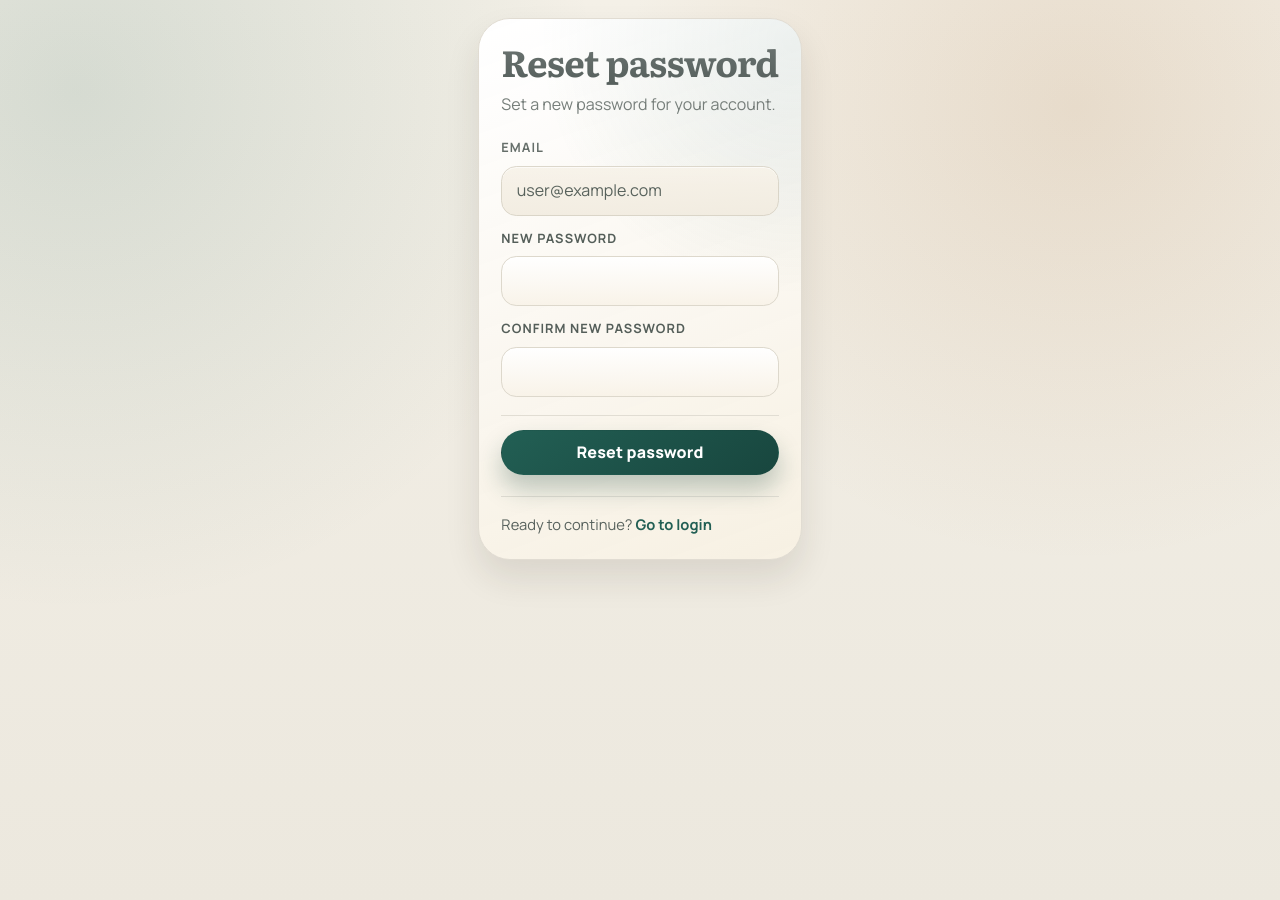
ResetPasswordPage › shows reset error when API request fails
In the password field labelled "New password": (640, 281) [501,256,779,306], type "Password123"
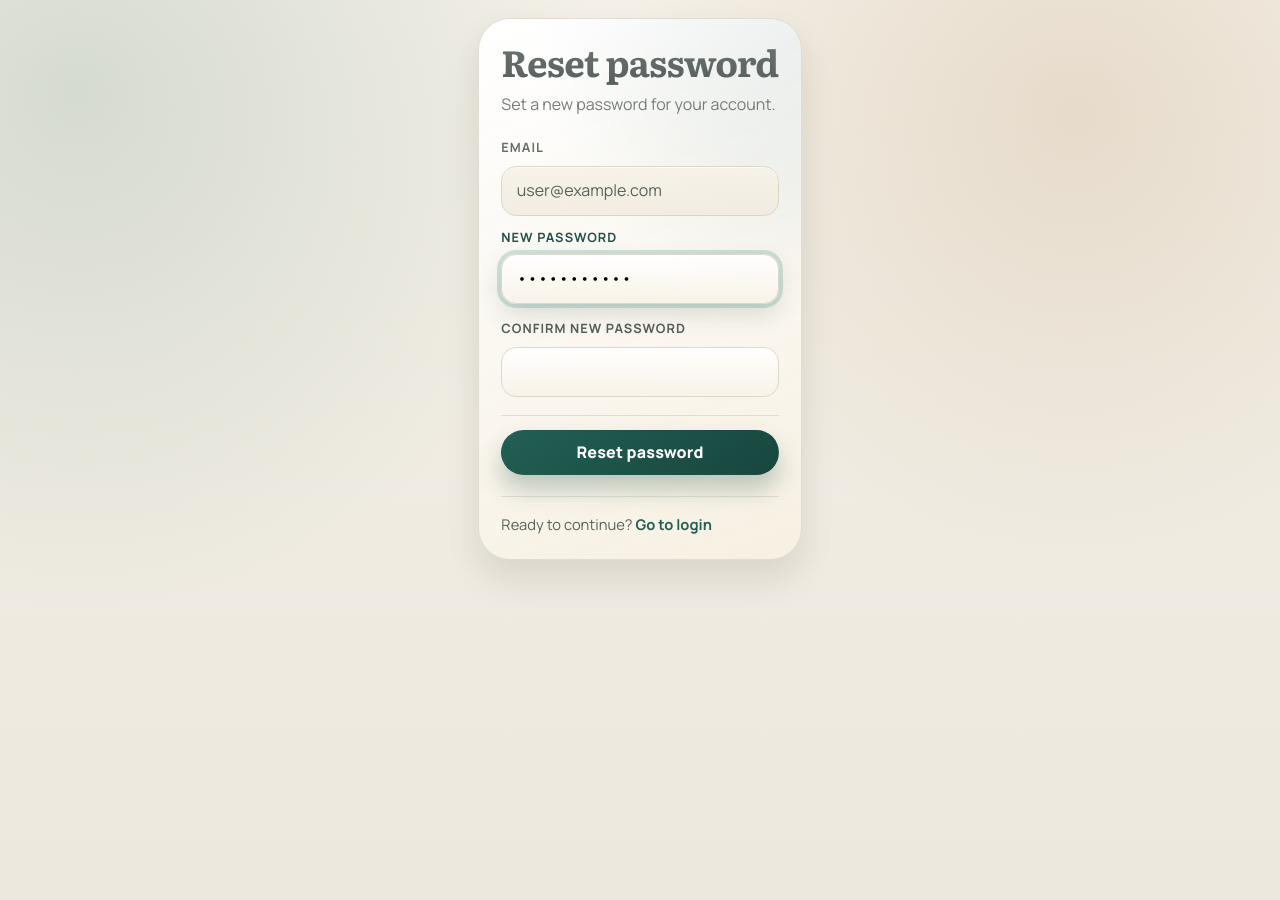
In the password field labelled "Confirm new password": (640, 372) [501,347,779,397], type "Password123"
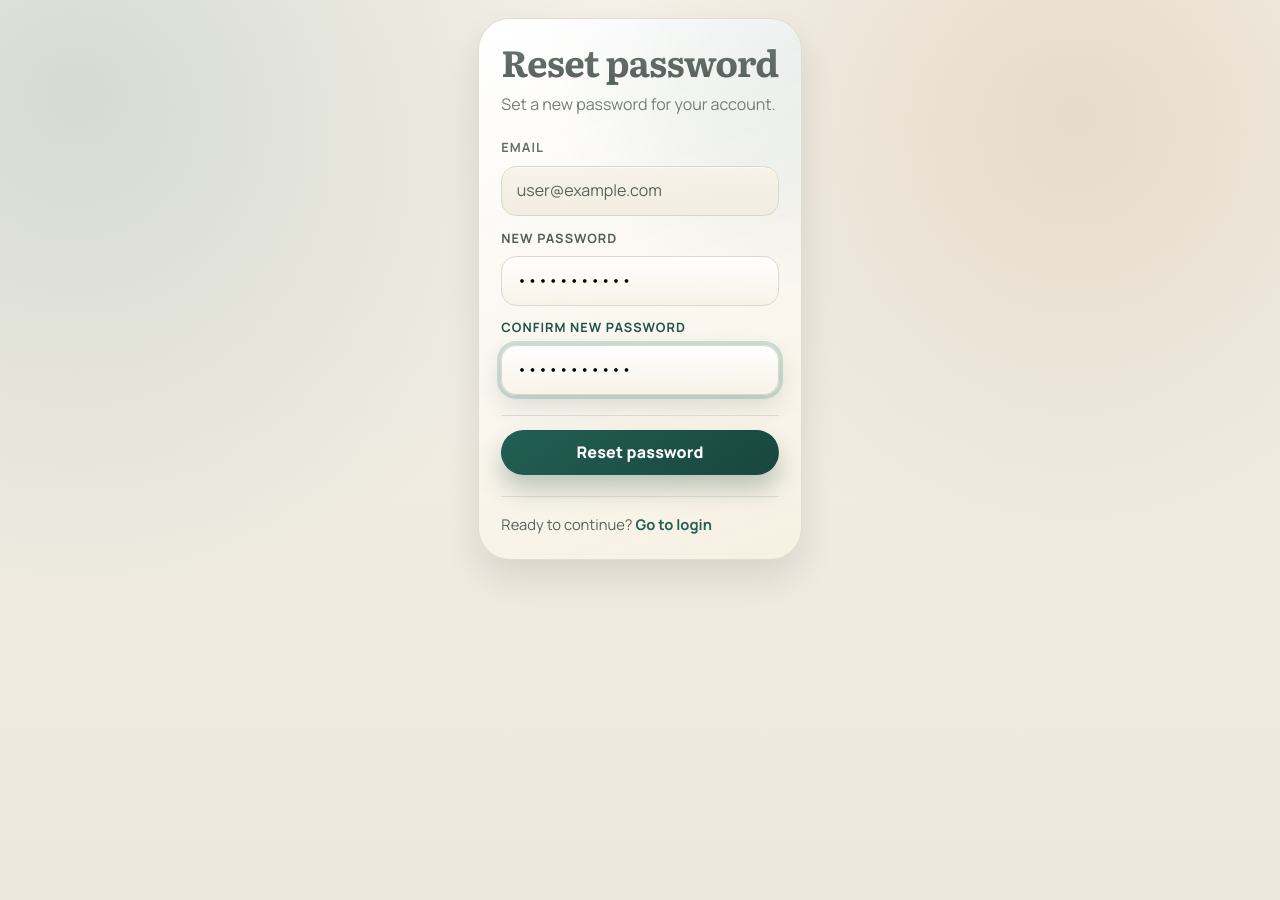
Click the button "Reset password": (640, 452) [501,430,779,475]
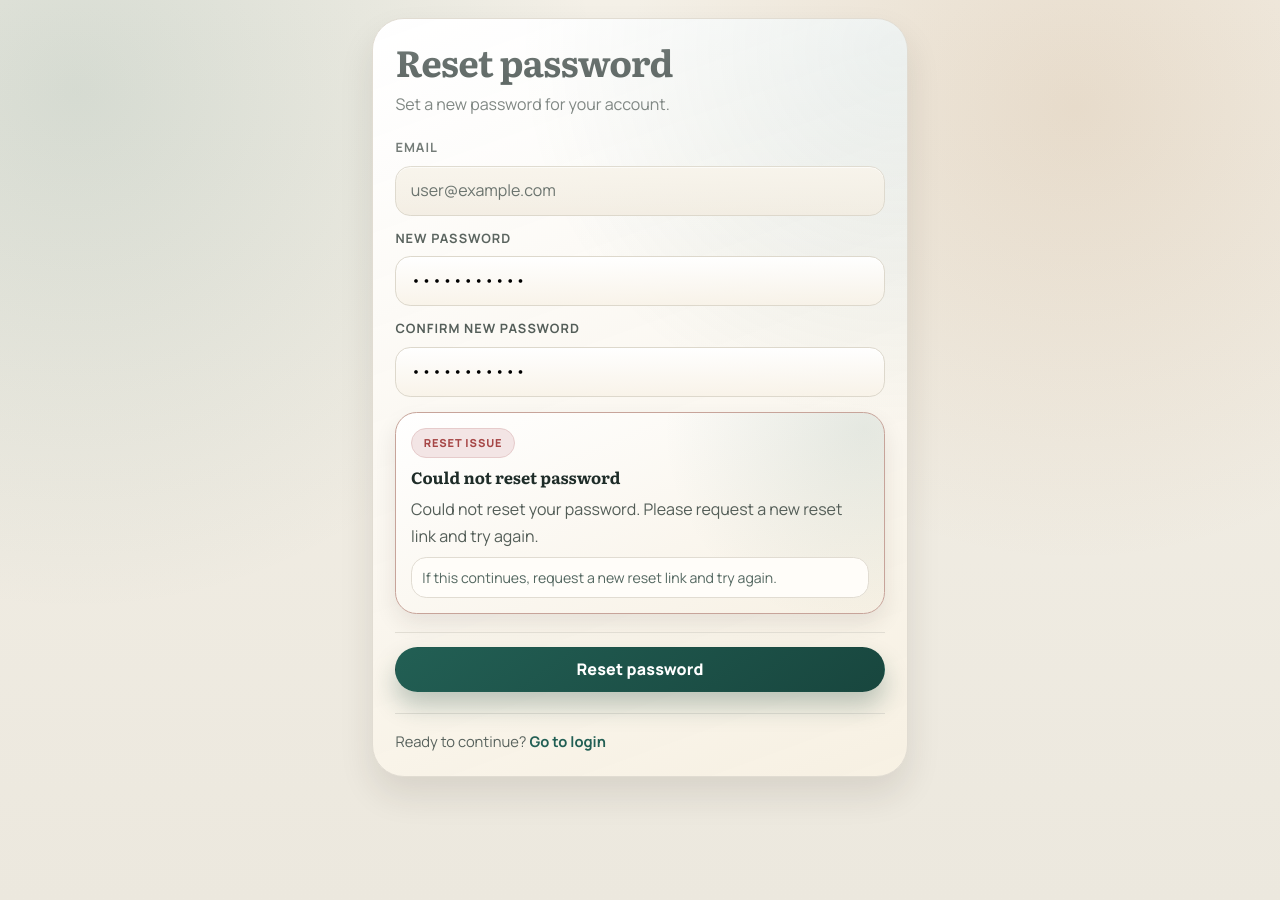
Expected: the text "Could not reset password" is shown, [411,465,620,489]
Expected: the text "Could not reset your password. Please request a new reset link and try again." is shown, [411,496,869,549]
